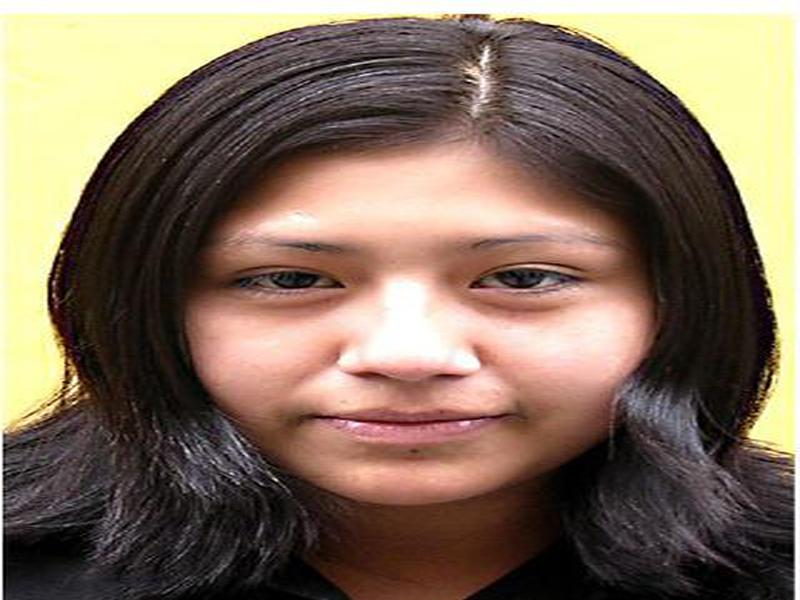without_mask: (182, 133, 642, 502)
